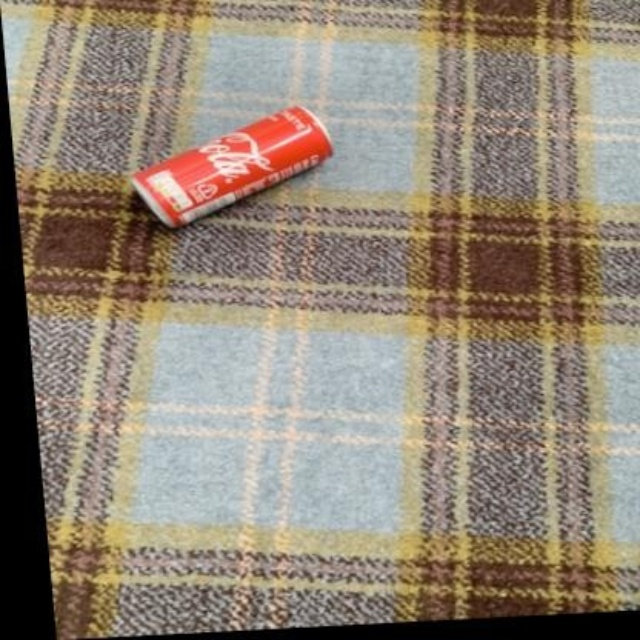trash: (131, 106, 331, 226)
